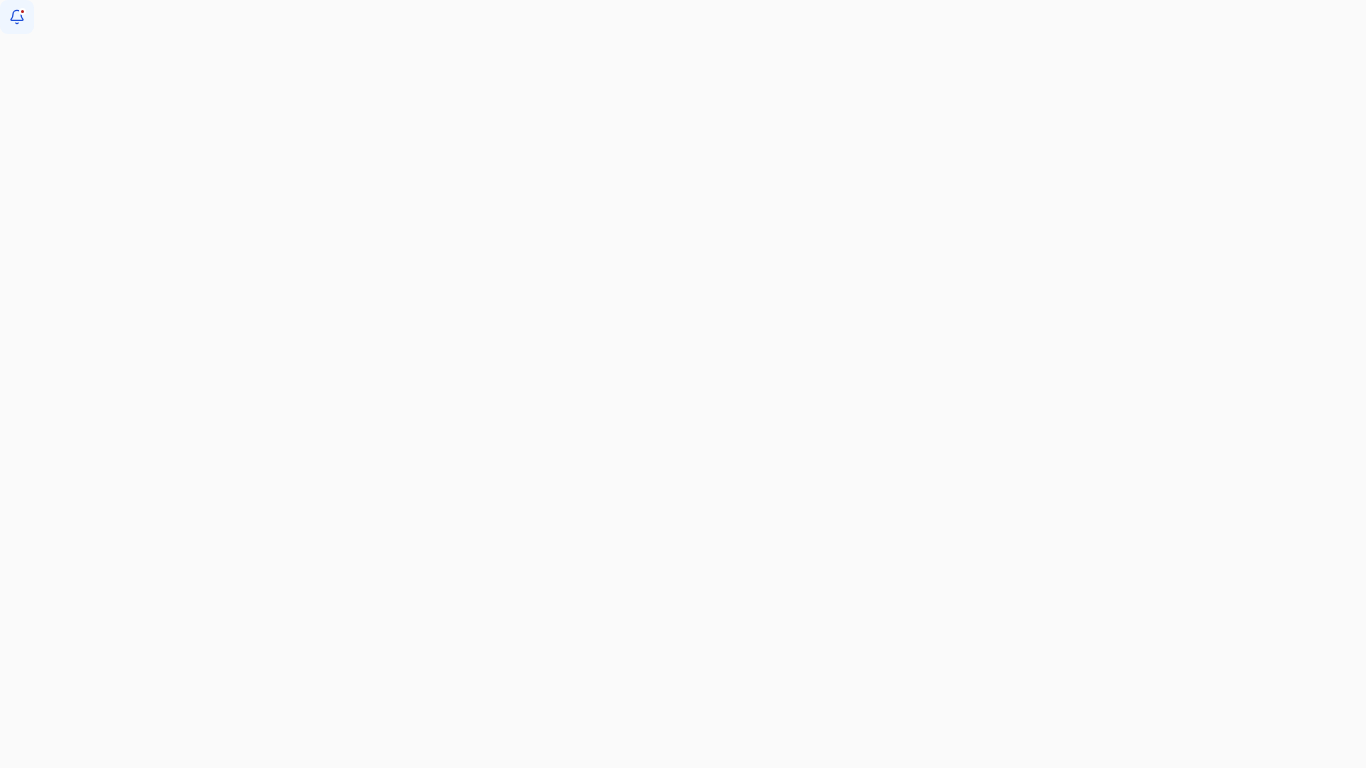
#192 the bell: a member’s task notifications › says how many are unread, lists them with what they are about, and opens the record, marking it read
Click the button named "Notifications, 1 unread". click: (17,17)
box: [0, 0, 34, 34]
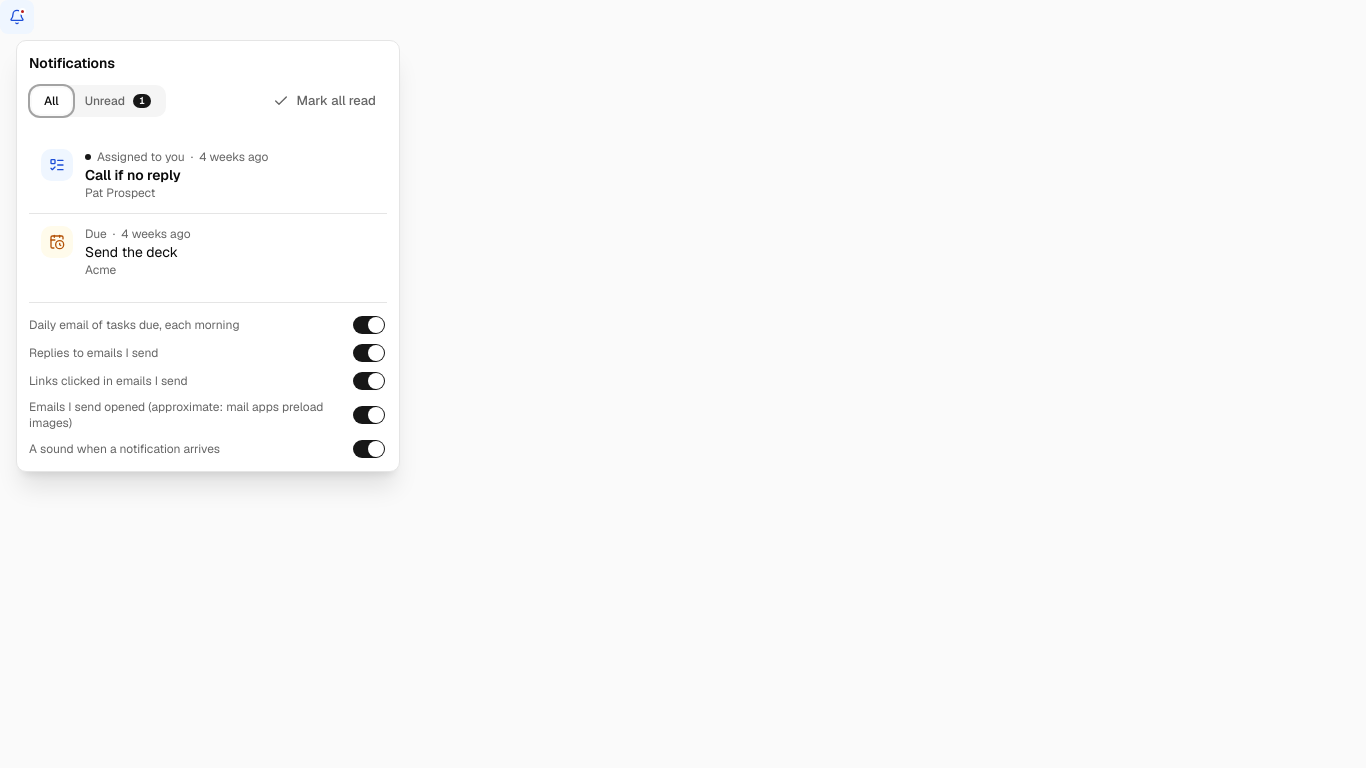
expect the text "Assigned to you" is shown: met, box [97, 149, 185, 165]
expect the text "Due" is shown: met, box [85, 226, 107, 242]
Click the link that starts with "Assigned to you". click: (155,175)
box: [41, 149, 268, 201]
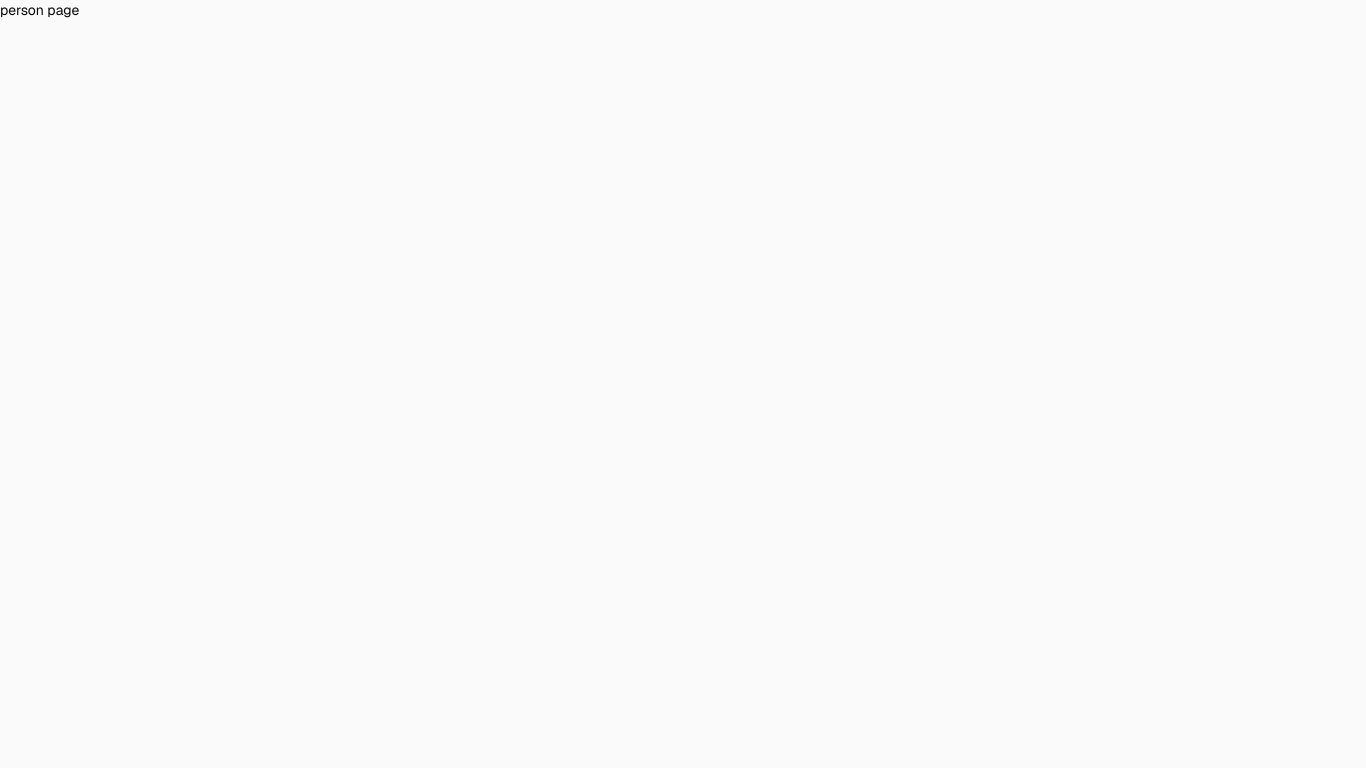
expect the text "person page" is shown: met, box [0, 1, 79, 19]
